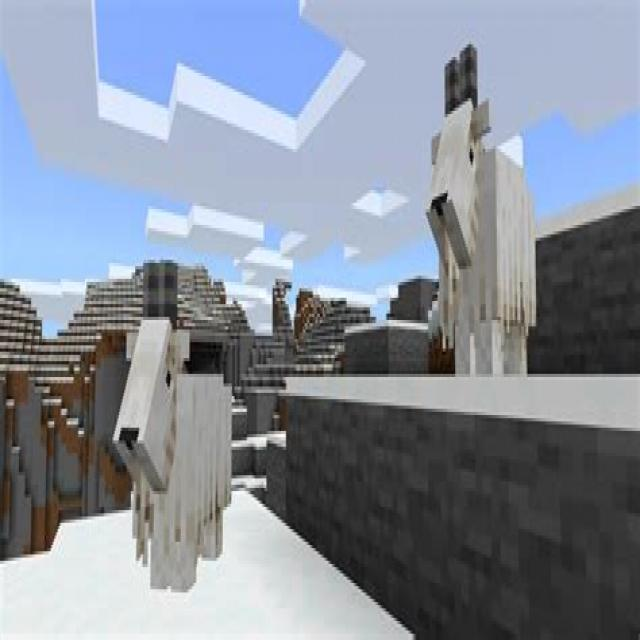Goat: (415, 35, 546, 399), (110, 247, 238, 589)
